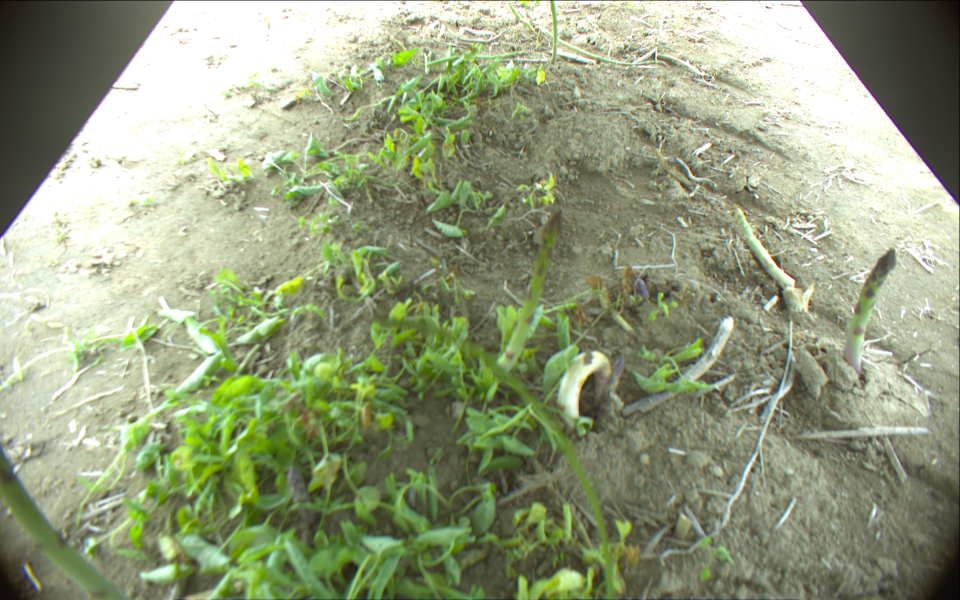aspa: (369, 311, 627, 597), (6, 446, 129, 600), (476, 211, 564, 404), (509, 1, 665, 68), (842, 248, 897, 379), (729, 204, 796, 293), (418, 47, 536, 71), (285, 471, 318, 534), (601, 348, 628, 406), (550, 1, 561, 63), (631, 277, 653, 308)
